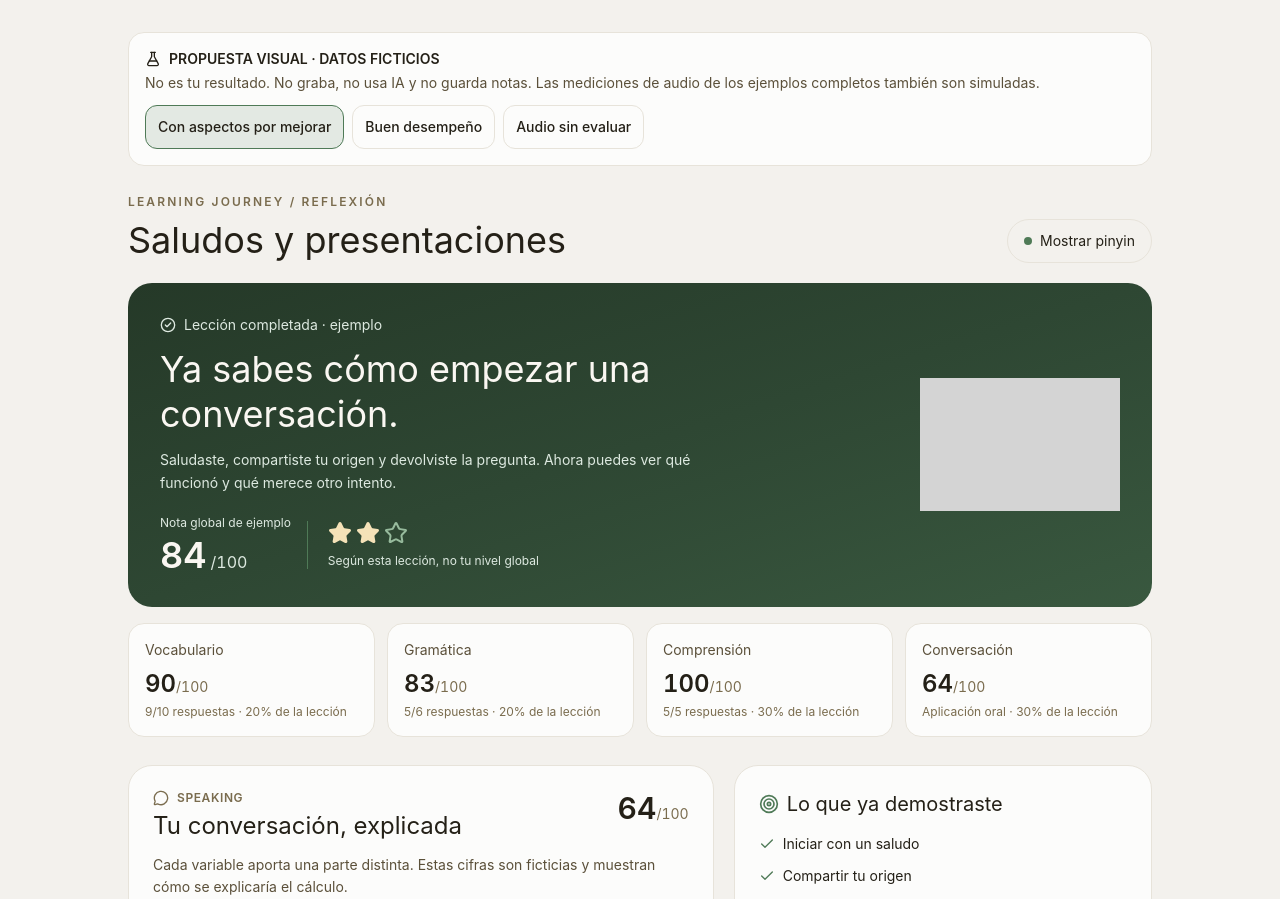
isolated reflection design proposal › offers an extension instead of inventing a grammar error in the strong example
The width and height of the screenshot is (1280, 899).
Click the button "Buen desempeño" at (424,127), box [352, 105, 495, 149]
(page scrolled)
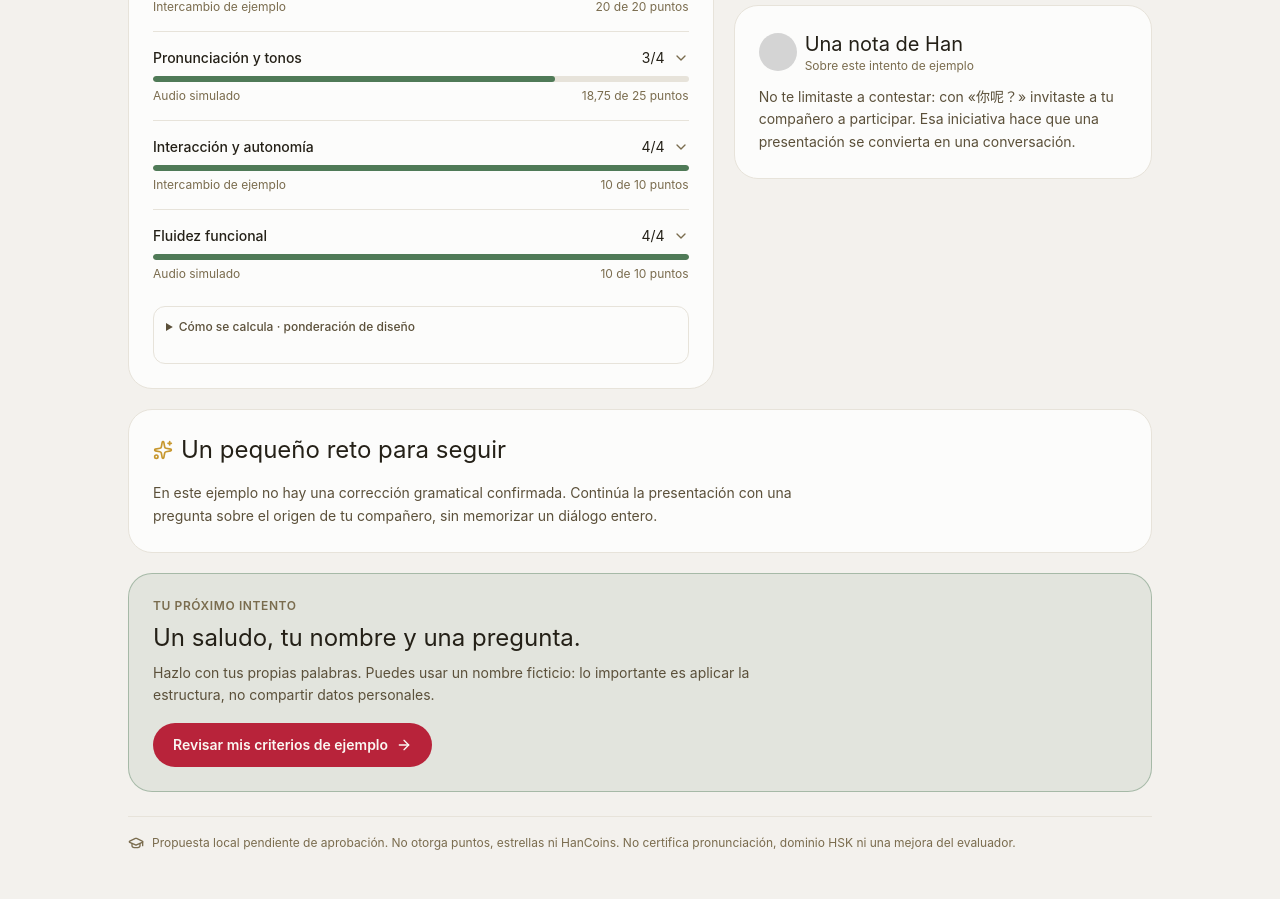
Check: the heading "Un pequeño reto para seguir" is shown, box [181, 434, 506, 466]
